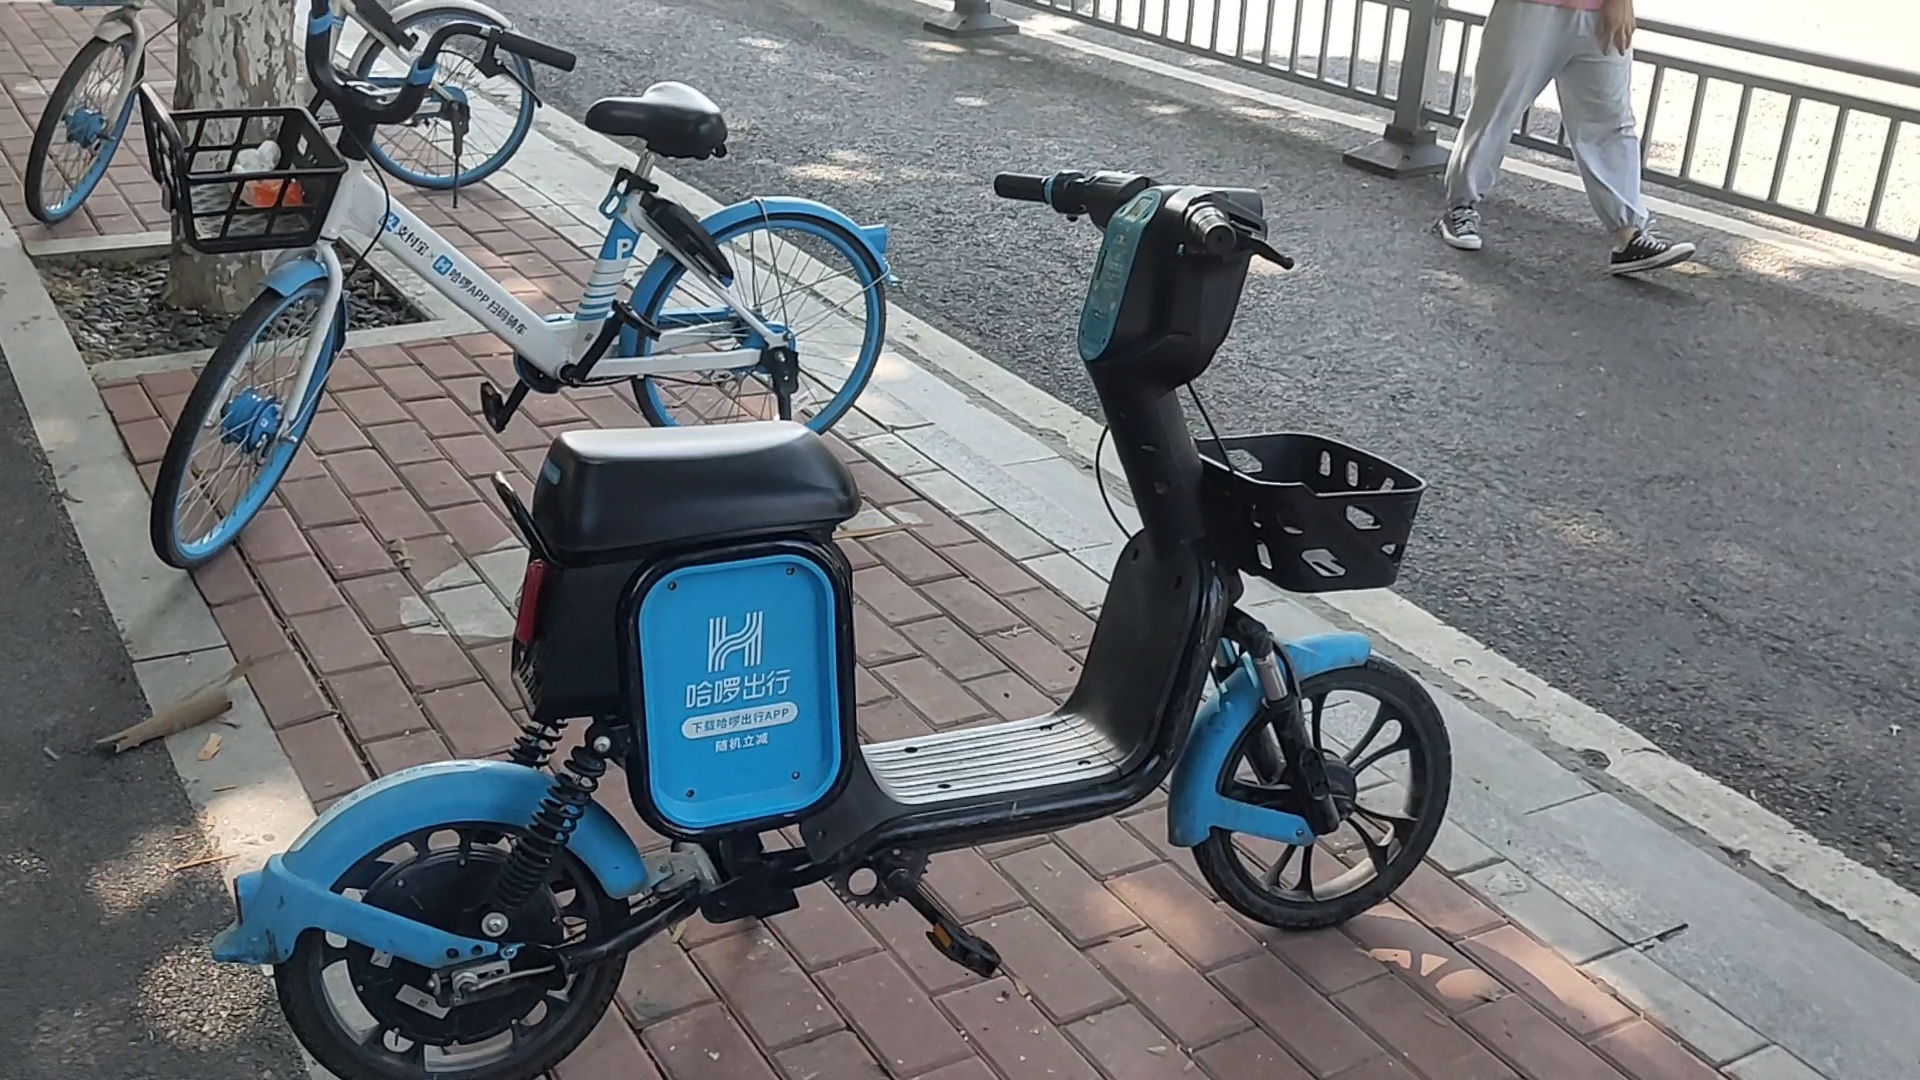non-vehicle: (185, 90, 1494, 1080), (133, 33, 891, 568), (21, 1, 568, 218)
